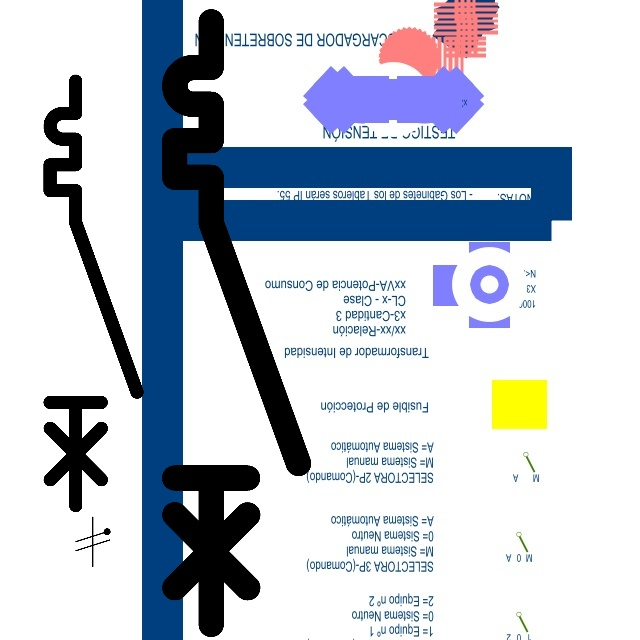interruptor_termomagnetico: (159, 6, 314, 640), (39, 70, 148, 516)
